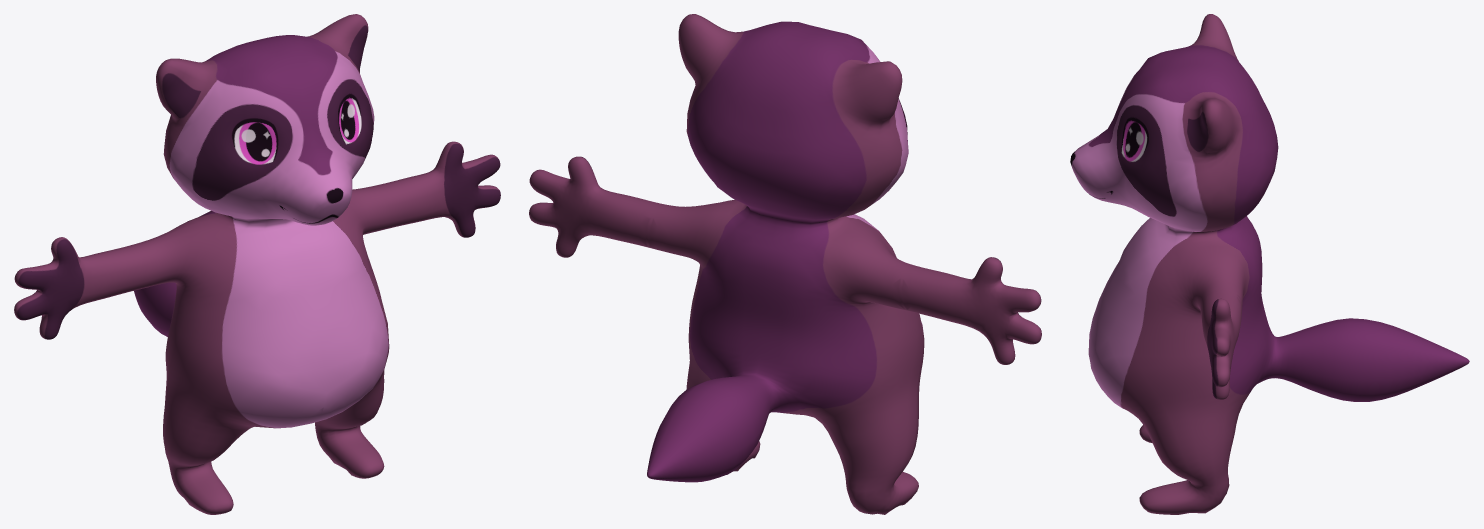
File: Racoon5.fbx
3 renders of one model, left to right at view 1: azimuth 30°, elevation 25°; view 2: azimuth 150°, elevation 25°; view 3: azimuth 270°, elevation 25°, orthographic. The views are drawn at different scales.
Parts seen in each view (by area): view 1: polySurface1; view 2: polySurface1; view 3: polySurface1.
Boxes of the visible parts, left/top/right/bottom form: polySurface1: left=14, top=14, right=500, bottom=514; polySurface1: left=529, top=14, right=1041, bottom=514; polySurface1: left=1070, top=14, right=1469, bottom=514.
Bounding box in the file's own units: 7.5 × 6.4 × 5.58.
